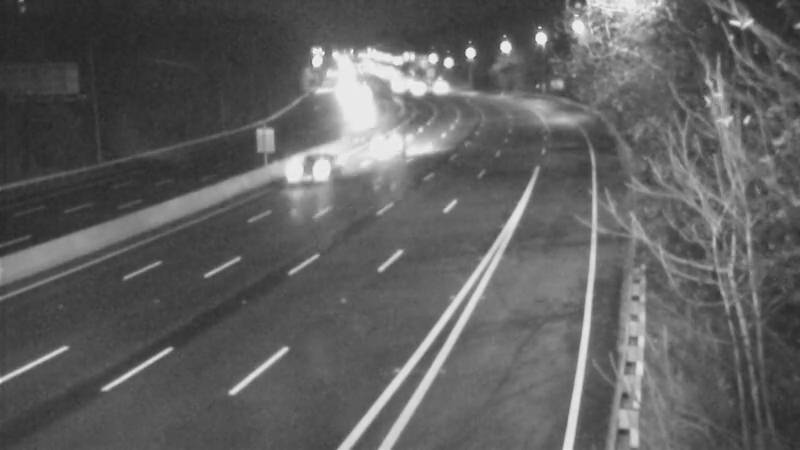vehicle: (283, 123, 363, 203), (387, 61, 437, 111), (411, 60, 461, 110), (372, 120, 422, 170)
